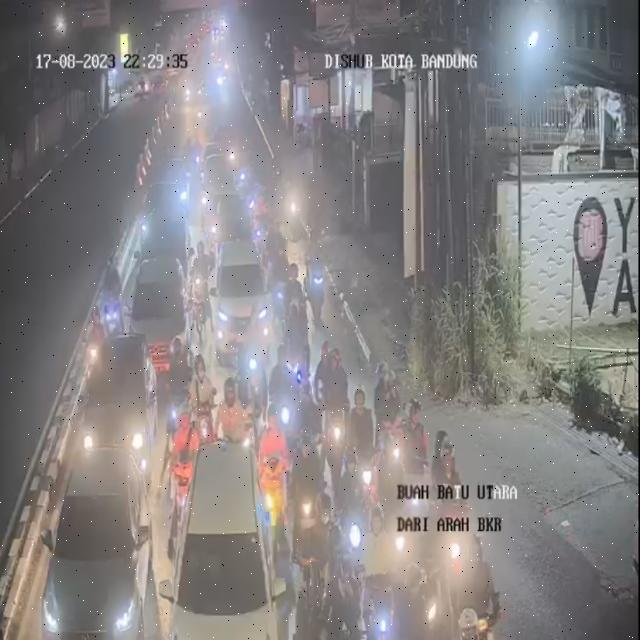cars: (169, 441, 285, 639), (37, 445, 151, 640), (212, 232, 274, 366), (126, 252, 190, 379), (141, 184, 190, 282), (200, 150, 238, 232)
motorcycle: (284, 424, 324, 547), (336, 450, 371, 588), (435, 428, 467, 561), (304, 496, 338, 614), (324, 341, 353, 472), (458, 529, 492, 640), (164, 340, 194, 462), (364, 500, 390, 636), (388, 483, 418, 596), (188, 354, 221, 452), (284, 287, 314, 394), (269, 344, 297, 445), (377, 364, 402, 474), (220, 377, 254, 453), (304, 230, 329, 324), (328, 579, 365, 640), (297, 380, 324, 462), (260, 433, 286, 512), (268, 228, 288, 324), (100, 257, 122, 338), (266, 310, 285, 381), (189, 239, 207, 308), (282, 169, 300, 238), (462, 616, 500, 640), (182, 136, 196, 186), (310, 626, 342, 640)
